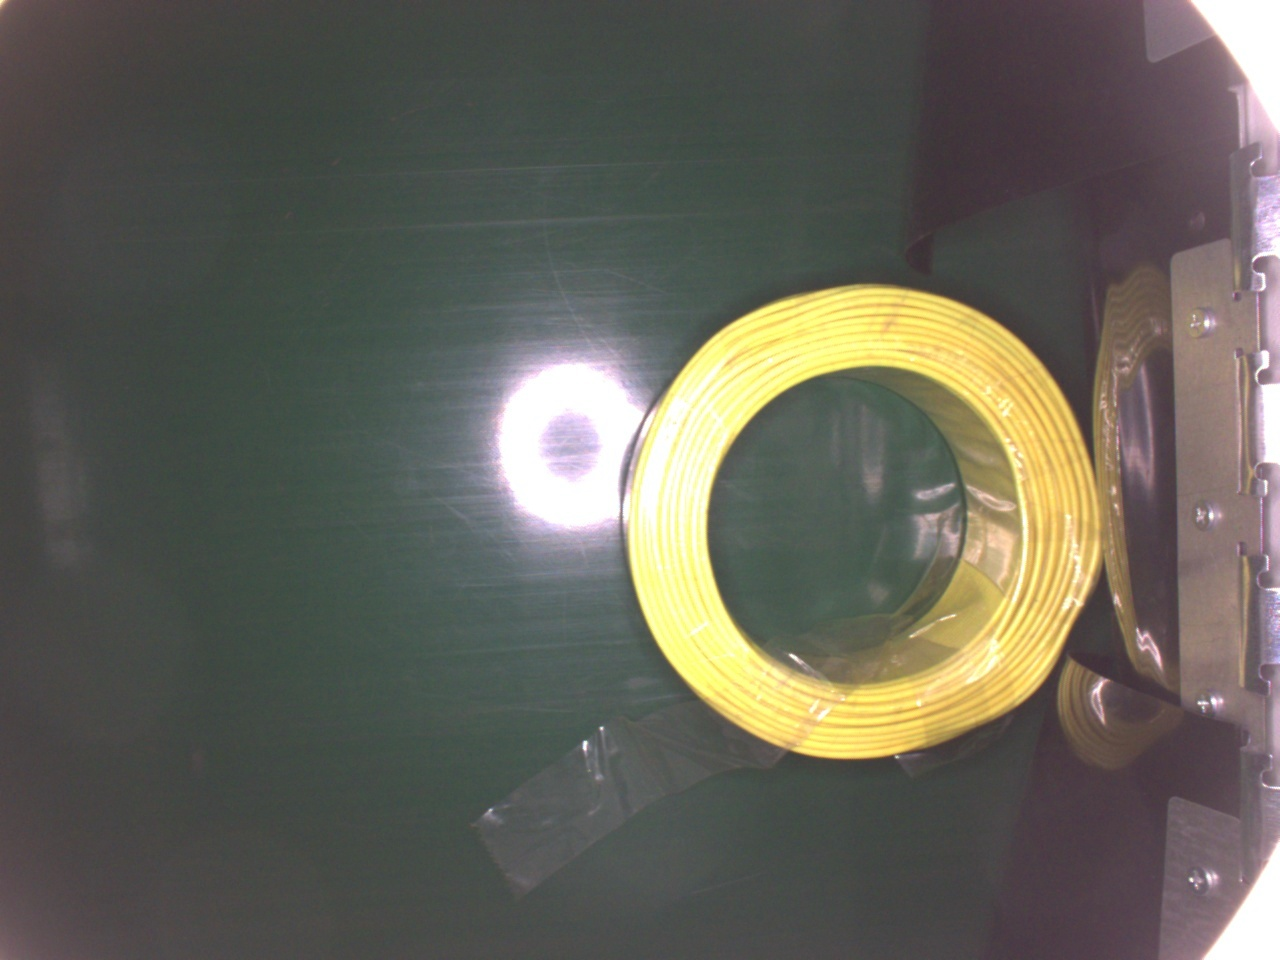yellow: (619, 281, 1106, 764)
